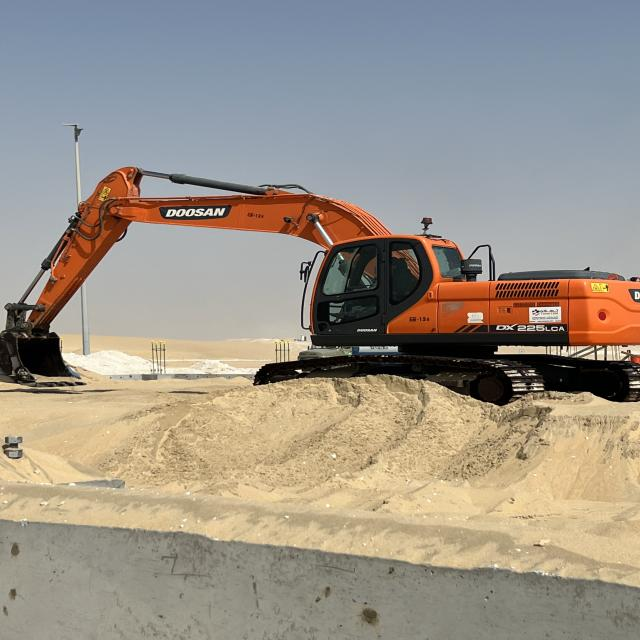Excavator: (0, 162, 637, 406)
